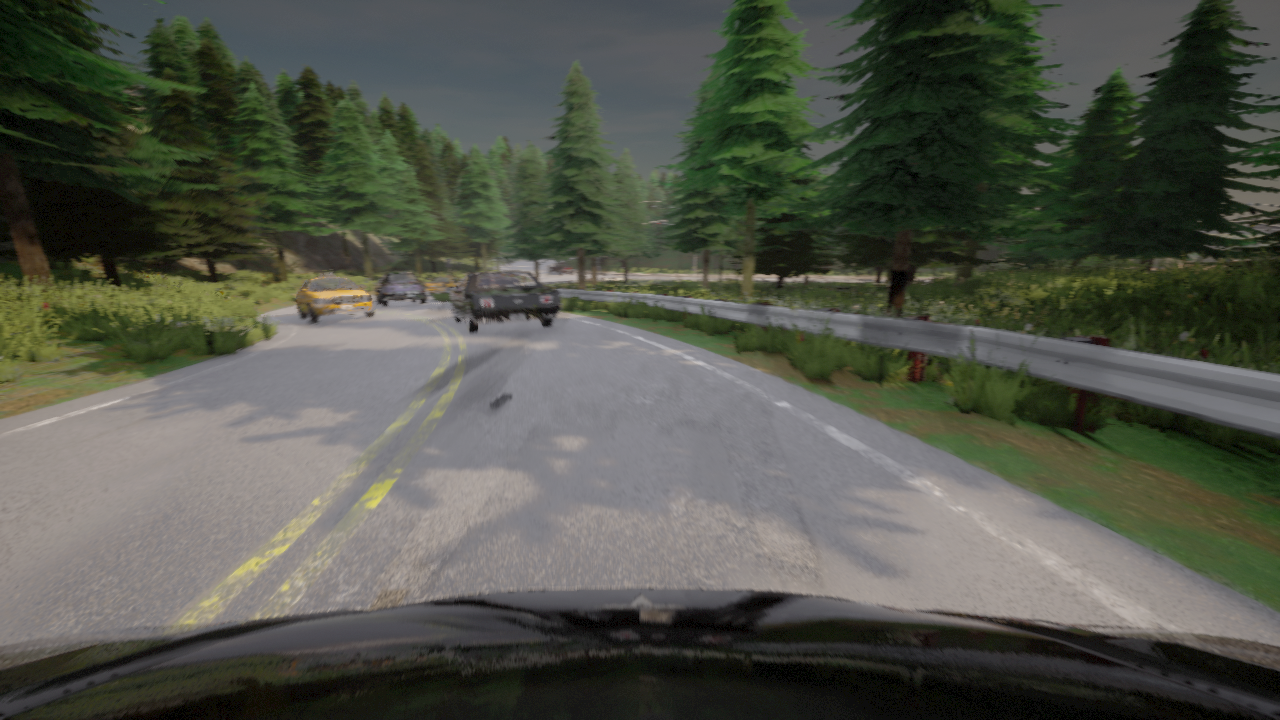cyclist: (0, 588, 1279, 719), (450, 271, 560, 333), (296, 272, 373, 322), (374, 270, 426, 306), (424, 274, 462, 295), (548, 262, 572, 274)
